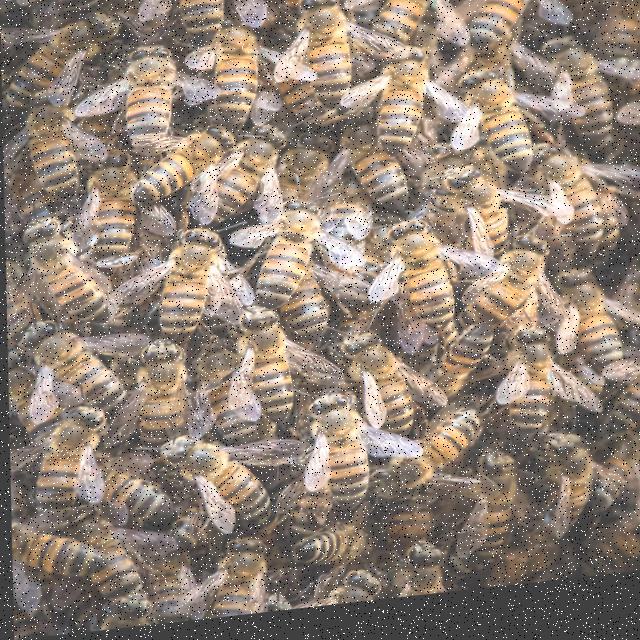Apis-mellifera-scutellata: (6, 197, 134, 365), (378, 212, 484, 362), (150, 432, 287, 544), (277, 0, 377, 125), (15, 80, 100, 221), (75, 482, 158, 617), (369, 418, 492, 508), (56, 399, 104, 601), (154, 220, 222, 359), (489, 230, 566, 352), (243, 189, 309, 331), (119, 37, 195, 159), (506, 317, 568, 464), (205, 24, 275, 146), (302, 398, 367, 528), (10, 518, 106, 592), (320, 183, 373, 294), (476, 0, 538, 83), (149, 0, 242, 45), (372, 0, 443, 57), (586, 254, 603, 385)
